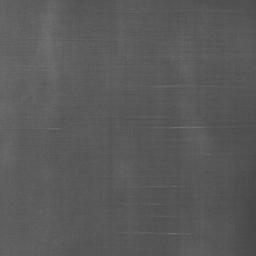Waist folding: (120, 230, 190, 236), (155, 125, 234, 130), (153, 83, 215, 89), (118, 184, 176, 189), (121, 201, 160, 206), (201, 152, 231, 157)
